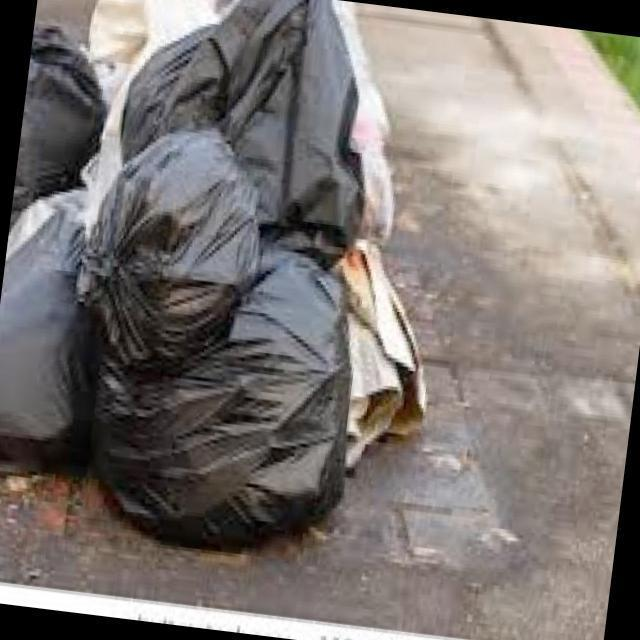garbage: (0, 0, 507, 585)
